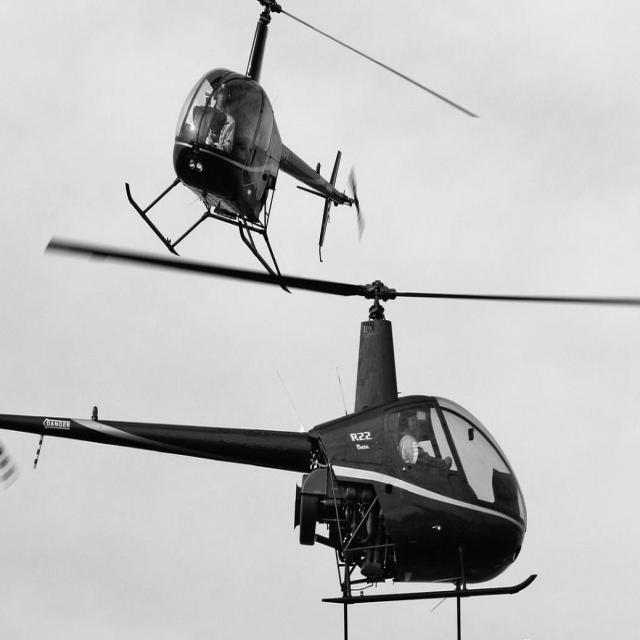helicopter: (1, 233, 640, 640), (48, 1, 482, 298)
